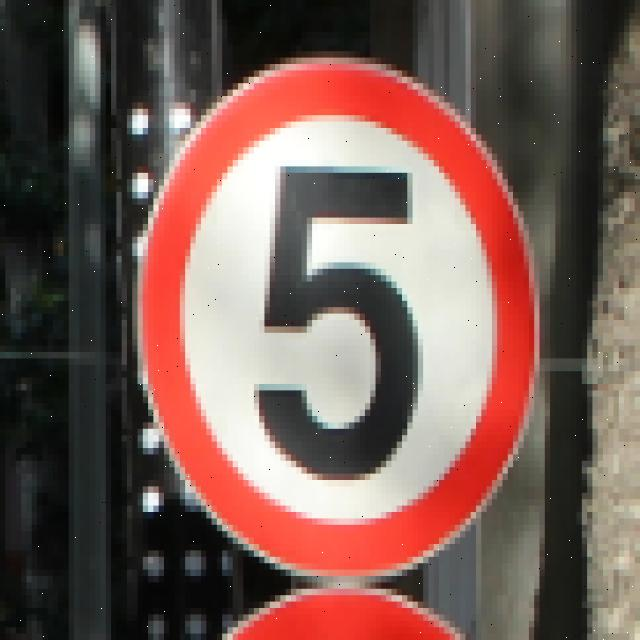speed limit 10: (139, 58, 536, 580)
